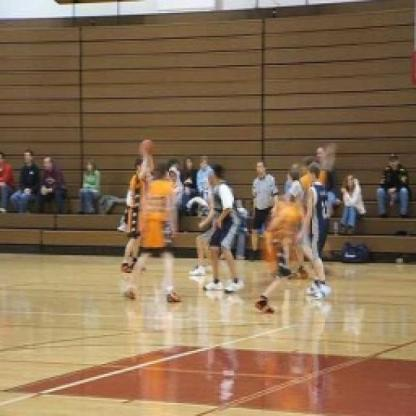basketball: (138, 133, 156, 159)
